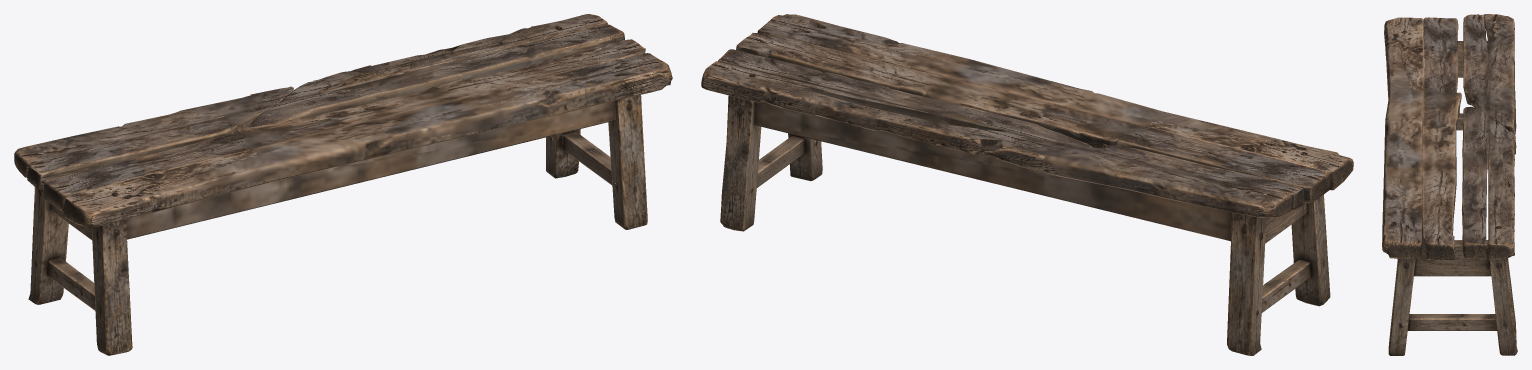
File: Meshy_AI_Weathered_Wooden_Benc_1028004525_texture.fbx
3 views of the same model, side by side, from view 1: azimuth 30°, elevation 25°; view 2: azimuth 150°, elevation 25°; view 3: azimuth 270°, elevation 25° (orthographic). The views are drawn at different scales.
Parts seen in each view (by area): view 1: Mesh_0; view 2: Mesh_0; view 3: Mesh_0.
Boxes of the visible parts, bbox=[...] form: Mesh_0: bbox=[14, 14, 672, 355]; Mesh_0: bbox=[701, 14, 1353, 355]; Mesh_0: bbox=[1382, 14, 1517, 355].
Size of the model in its own units: 177 by 45 by 44.28.
Materials: 1 (1 with a texture image).
